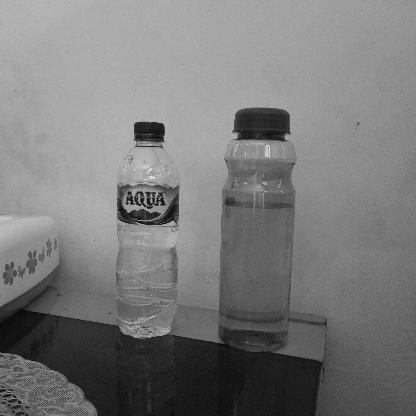plastic_bottles: (219, 107, 299, 355), (111, 118, 183, 340)
